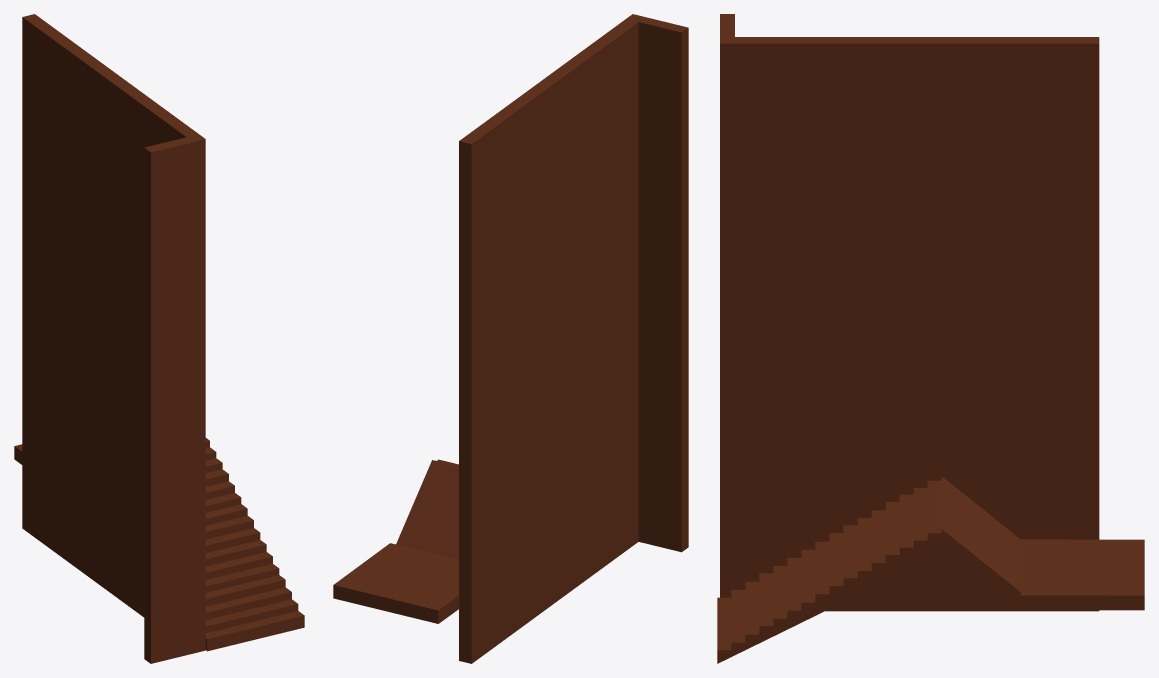
3 renders of one model, left to right at view 1: azimuth 30°, elevation 25°; view 2: azimuth 150°, elevation 25°; view 3: azimuth 270°, elevation 25°, orthographic. The views are drawn at different scales.
Parts seen in each view (by area): view 1: escadas.001; view 2: escadas.001; view 3: escadas.001.
Part boxes in pixels (<box>): escadas.001: <box>14,14,304,663</box>; escadas.001: <box>333,14,688,663</box>; escadas.001: <box>717,14,1144,663</box>.
Size of the model in its own units: 5.62 by 17.36 by 11.84.
